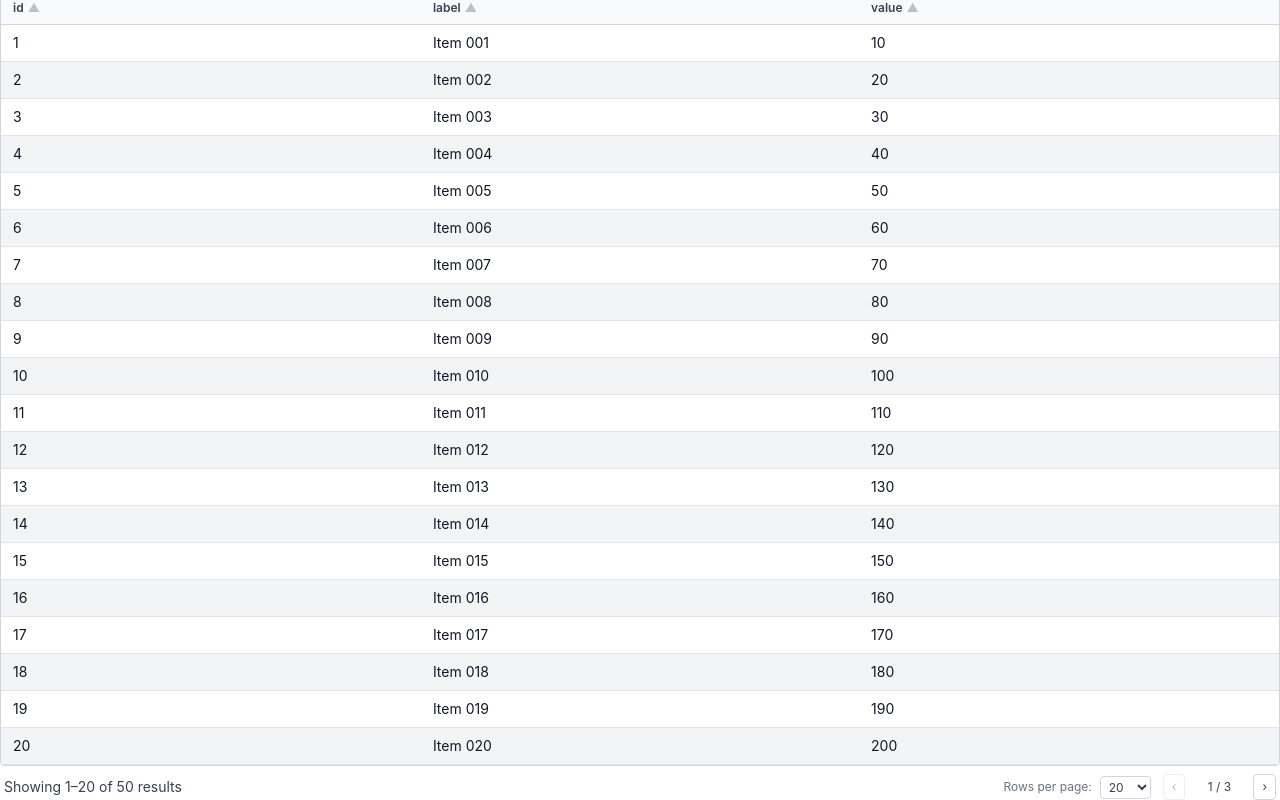
Test: DataTable — pagination › navigates to page 2 with next button
(page scrolled)
Click the button named "next page". click: coordinates (1265, 787)
box: [1253,774,1276,799]
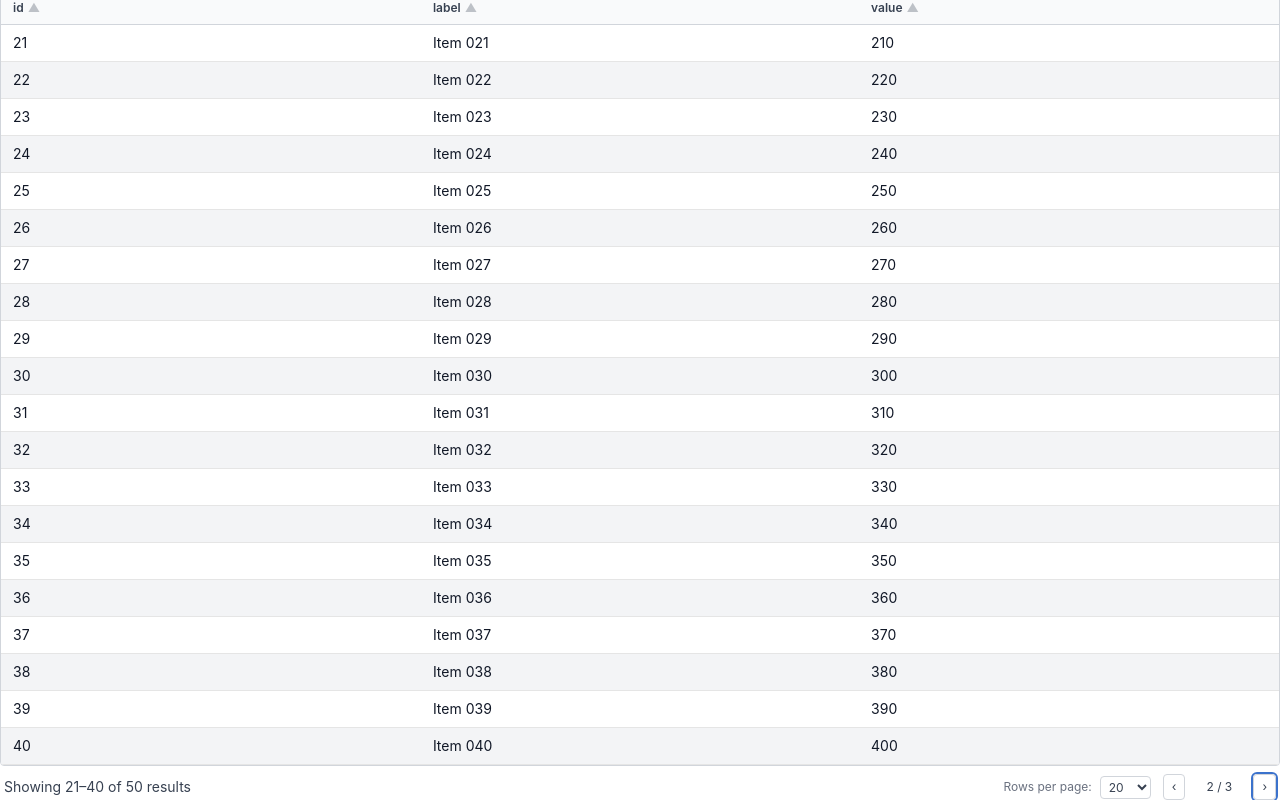
Check: the text "Showing 21–40 of 50 results" is shown, box [4,777,191,797]
Check: the text "Item 021" is shown, box [421,25,859,62]
Check: the text "Item 001" is gone
